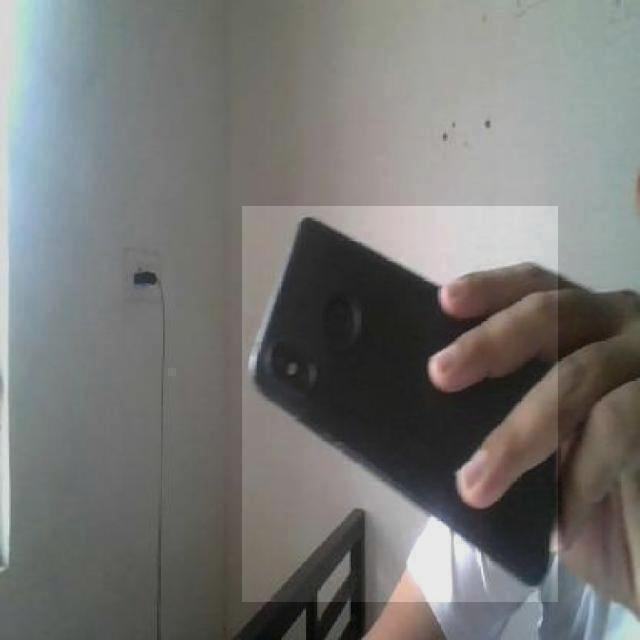lens: (260, 336, 322, 404)
phone: (243, 208, 559, 602)
